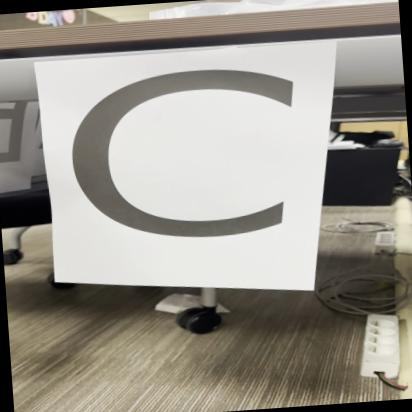seat: (38, 41, 349, 295)
